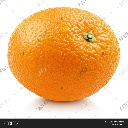orange: (7, 5, 122, 103)
